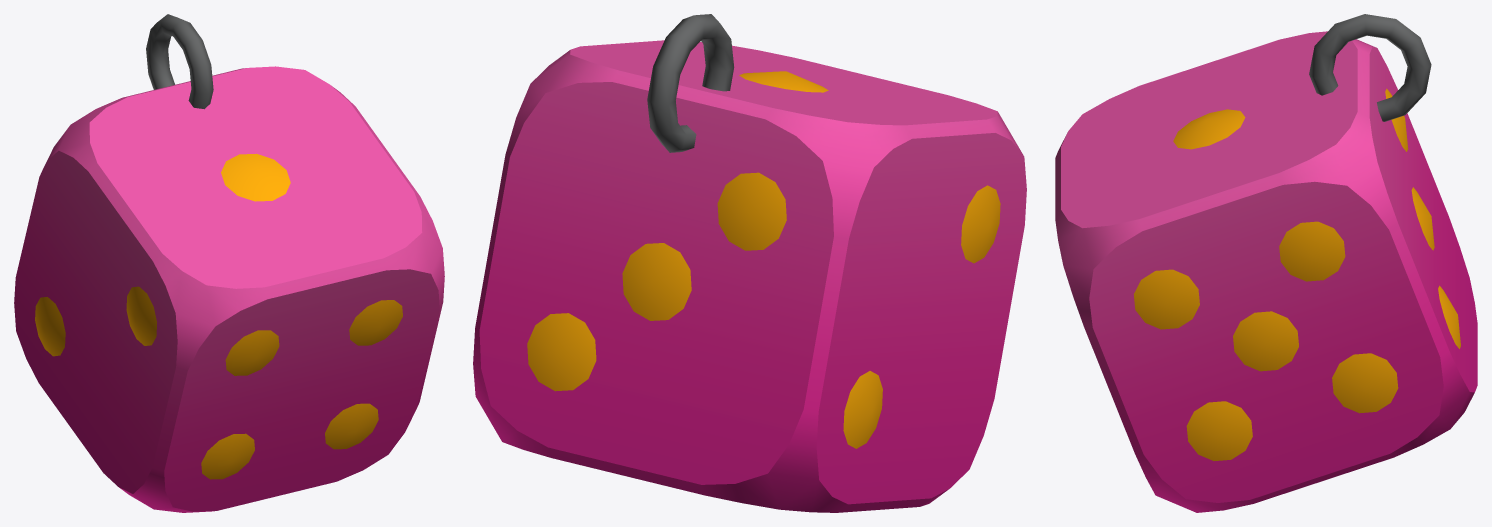
The model's file is Charm_03.fbx.
3 views of the same model, side by side, from view 1: azimuth 30°, elevation 25°; view 2: azimuth 150°, elevation 25°; view 3: azimuth 270°, elevation 25° (orthographic). The views are drawn at different scales.
Visible parts, largest first — view 1: Charm_03; view 2: Charm_03; view 3: Charm_03.
Part boxes in pixels (box(x1,y1,x2,y2)): Charm_03: box(14, 14, 444, 512); Charm_03: box(473, 14, 1026, 512); Charm_03: box(1055, 14, 1477, 512).
Bounding box in the file's own units: 3.61 × 5.07 × 4.33.
